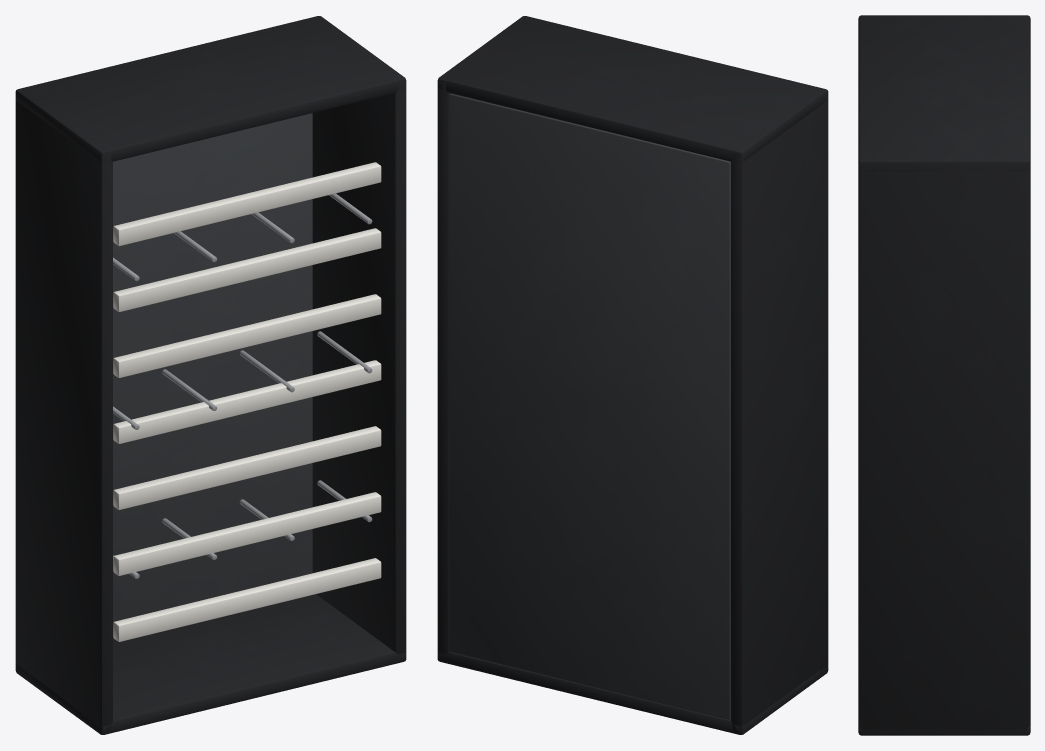
File: pf_display_accessory_rack_t1.glb
3 renders of one model, left to right at view 1: azimuth 30°, elevation 25°; view 2: azimuth 150°, elevation 25°; view 3: azimuth 270°, elevation 25°, orthographic.
Parts seen in each view (by area): view 1: Case_Back, Case_Left, Case_Right, Case_Top, Case_Base, Accessory_Slat_05, Accessory_Slat_03, Accessory_Slat_06, Accessory_Slat_07, Accessory_Slat_01, Accessory_Slat_02, Accessory_Slat_04; view 2: Case_Back, Case_Left, Case_Top, Case_Right, Case_Base; view 3: Case_Right, Case_Top, Case_Base.
Boxes of the visible parts, <box> form: Case_Back: <box>113,113,312,640</box>; Case_Left: <box>15,93,112,734</box>; Case_Right: <box>312,79,406,663</box>; Case_Top: <box>15,16,406,161</box>; Case_Base: <box>15,594,406,734</box>; Accessory_Slat_05: <box>113,294,381,377</box>; Accessory_Slat_03: <box>113,426,381,509</box>; Accessory_Slat_06: <box>113,228,381,311</box>; Accessory_Slat_07: <box>113,162,381,246</box>; Accessory_Slat_01: <box>113,558,381,641</box>; Accessory_Slat_02: <box>113,492,381,575</box>; Accessory_Slat_04: <box>113,360,381,443</box>; Case_Back: <box>449,93,730,719</box>; Case_Left: <box>731,93,828,734</box>; Case_Top: <box>437,16,828,161</box>; Case_Right: <box>437,79,450,663</box>; Case_Base: <box>437,651,828,734</box>; Case_Right: <box>858,160,1030,735</box>; Case_Top: <box>858,15,1030,171</box>; Case_Base: <box>858,726,1030,735</box>.
Size of the model in its own units: 0.85 by 1.55 by 0.42.
5 materials, 3 textured.
